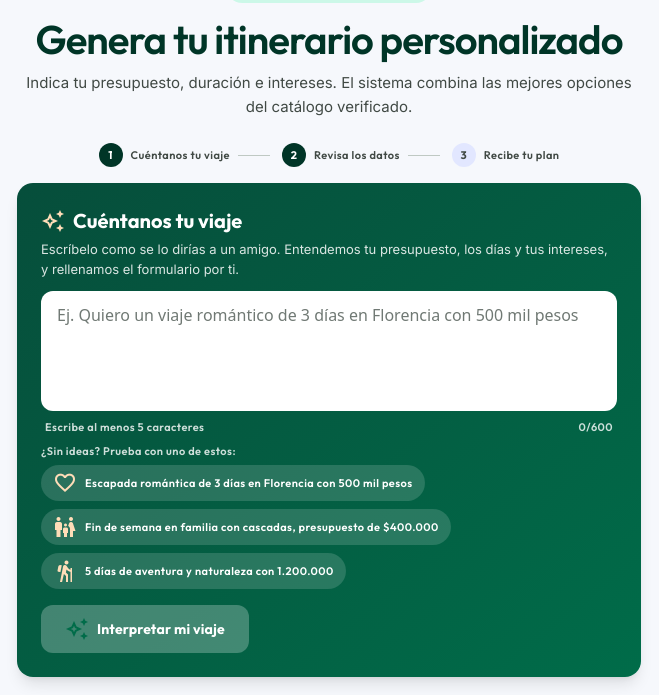
Test: Itinerario: formulario › «Cuéntanos tu viaje» rellena el formulario › aplica lo que entendió y muestra el municipio como filtro que se puede quitar
The image size is (659, 695).
Type "Escapada de 3 días en Florencia con 500 mil" into the text box. click: {"x": 329, "y": 351}
box: [41, 291, 617, 411]
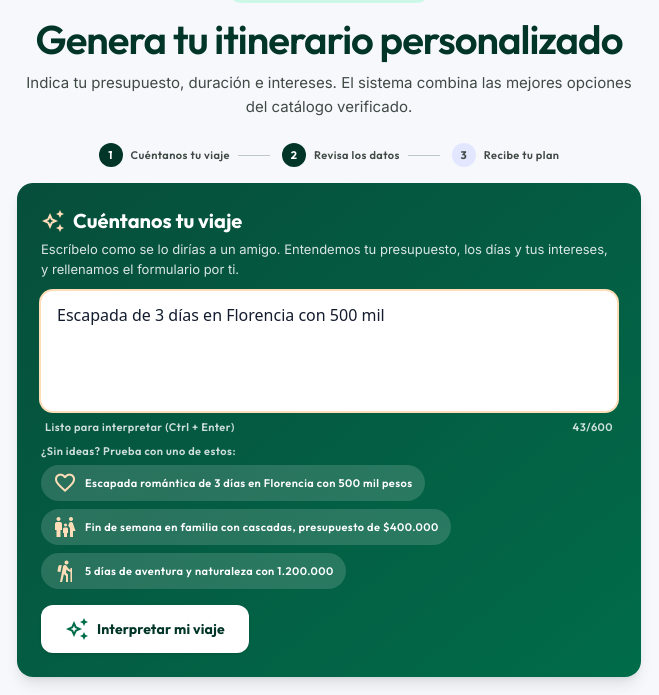
Click the button "Interpretar mi viaje". click: {"x": 145, "y": 629}
box: [41, 605, 249, 653]
(page scrolled)
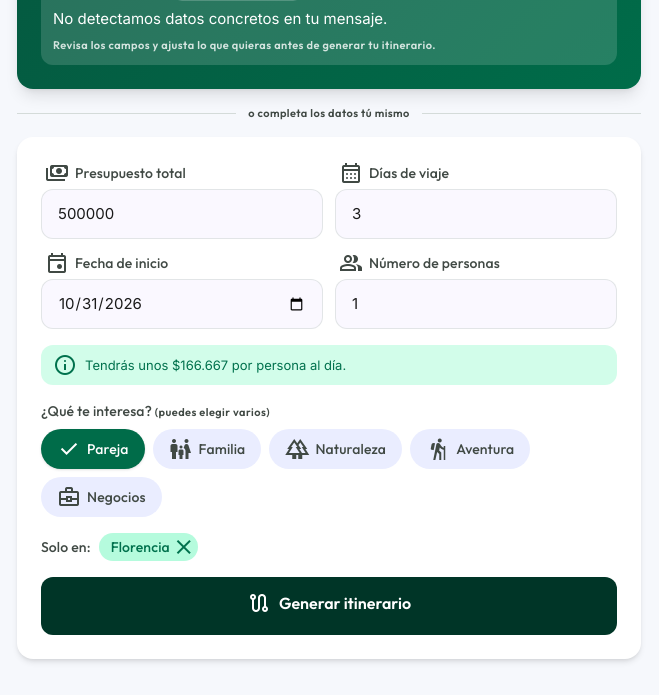
Check: the number field with placeholder "Presupuesto total (COP)" holds "500000", box [41, 189, 323, 239]
Check: the number field with placeholder "Días de viaje" holds "3", box [335, 189, 617, 239]
Check: the text "Florencia" is shown, box [99, 533, 198, 561]
Click the button named "Quitar municipio". click: {"x": 184, "y": 547}
box: [174, 537, 194, 557]
(page scrolled)
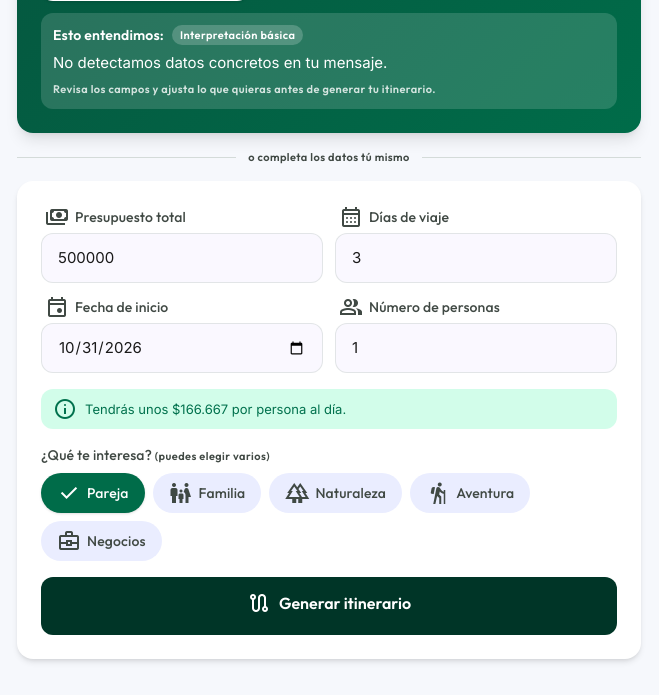
Check: the text "Solo en:" is gone
